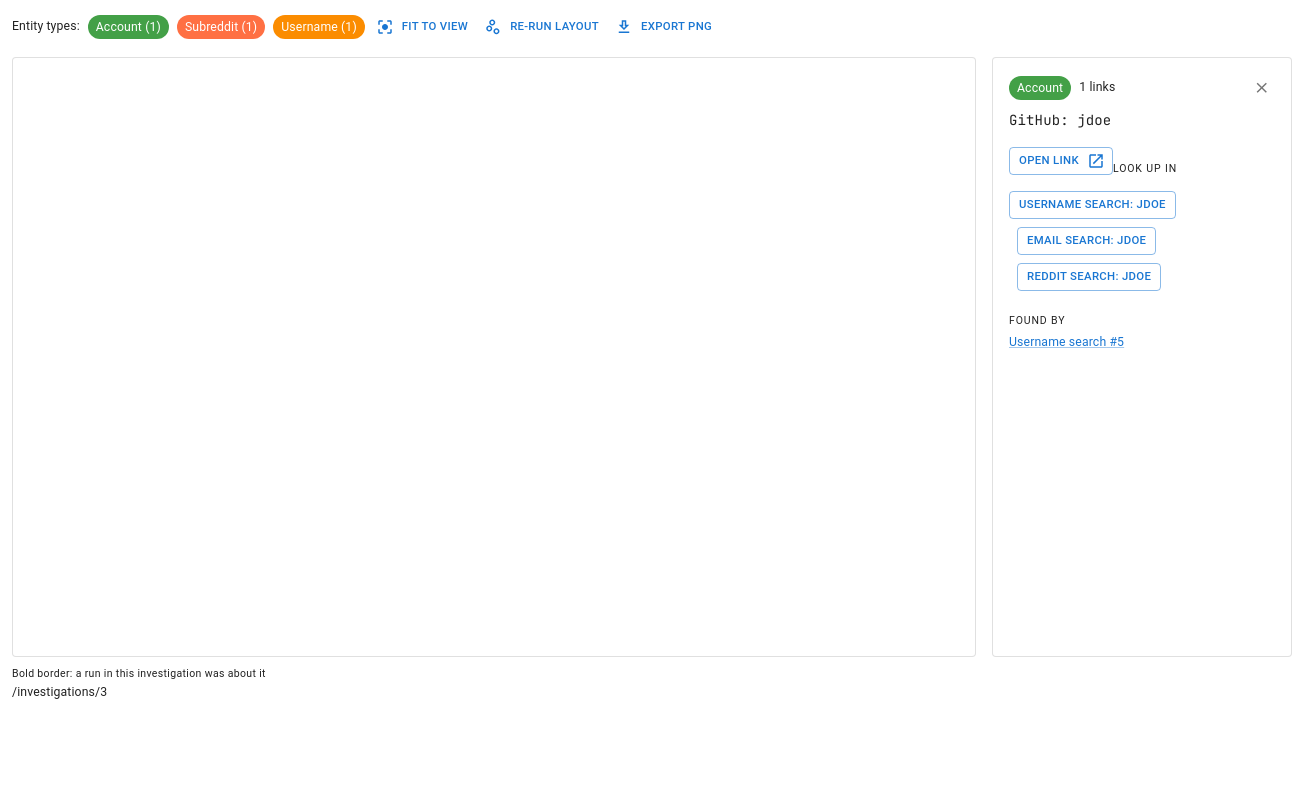
Scenario: EntityGraph › pivots an account node through its linked username
Click the button "Username Search: JDoe" at (1092, 205), box 1009,191 -> 1176,219
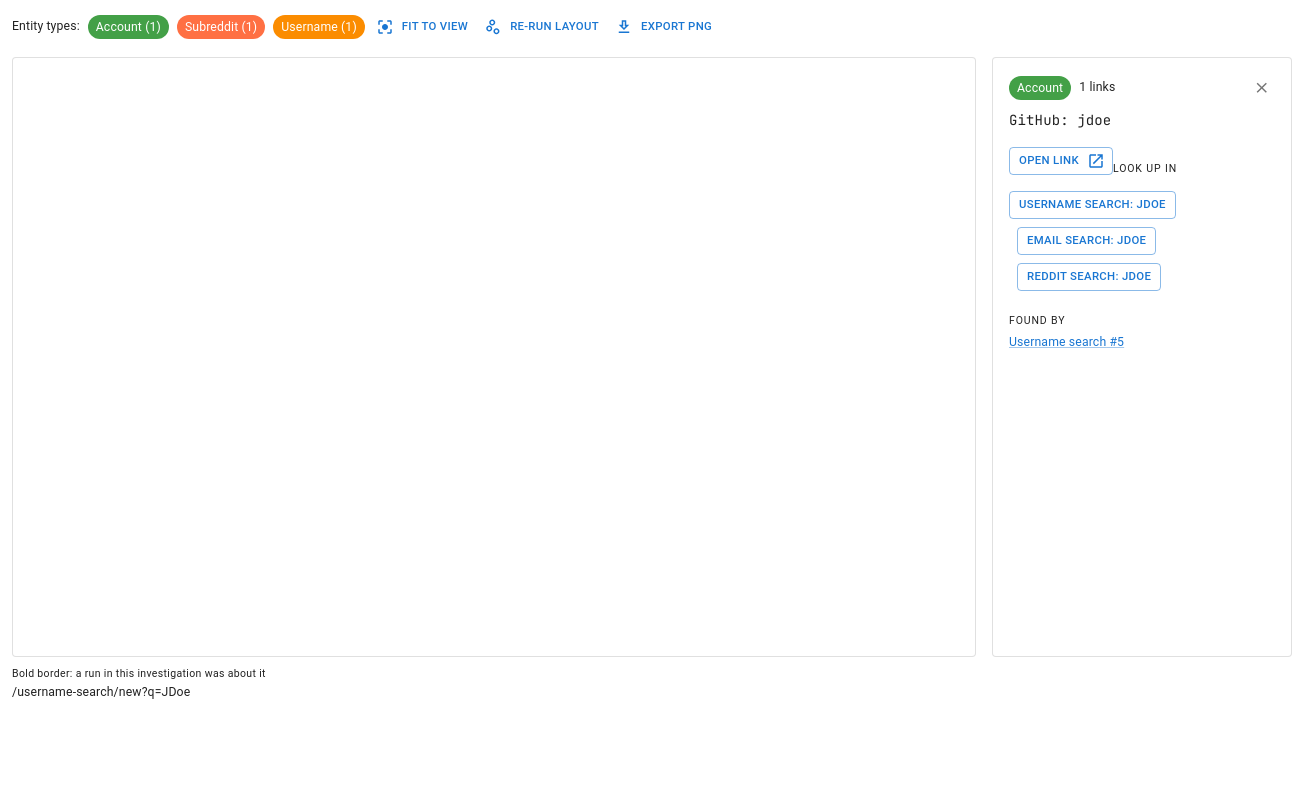
Expected: the text with test id "location" reads "/username-search/new?q=JDoe", 12,685 -> 190,699
